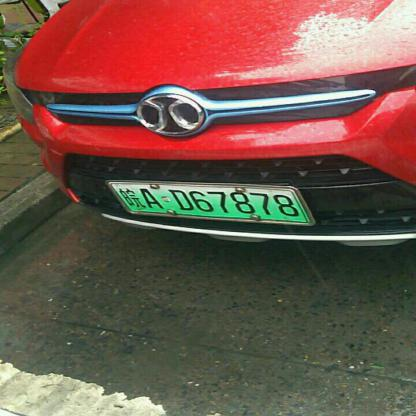lp: (110, 184, 305, 220)
